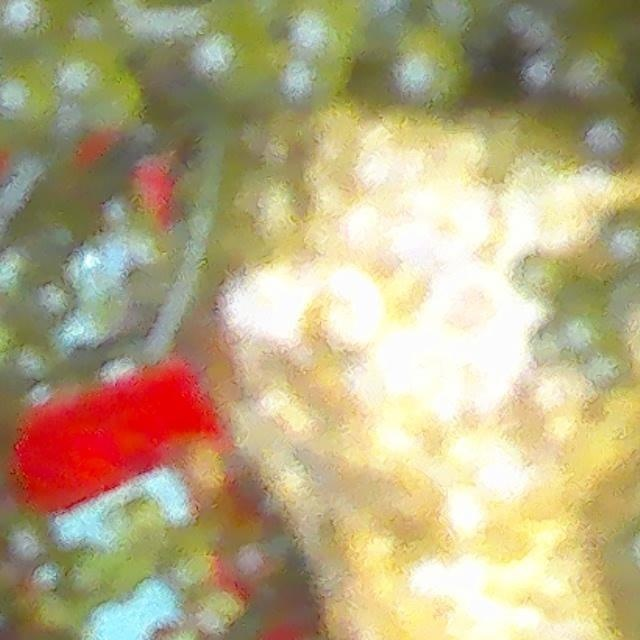SeaGrape: (45, 35, 127, 117), (391, 31, 462, 107), (287, 0, 361, 72), (189, 26, 261, 93), (273, 53, 337, 107), (0, 73, 57, 132), (0, 0, 48, 43)
